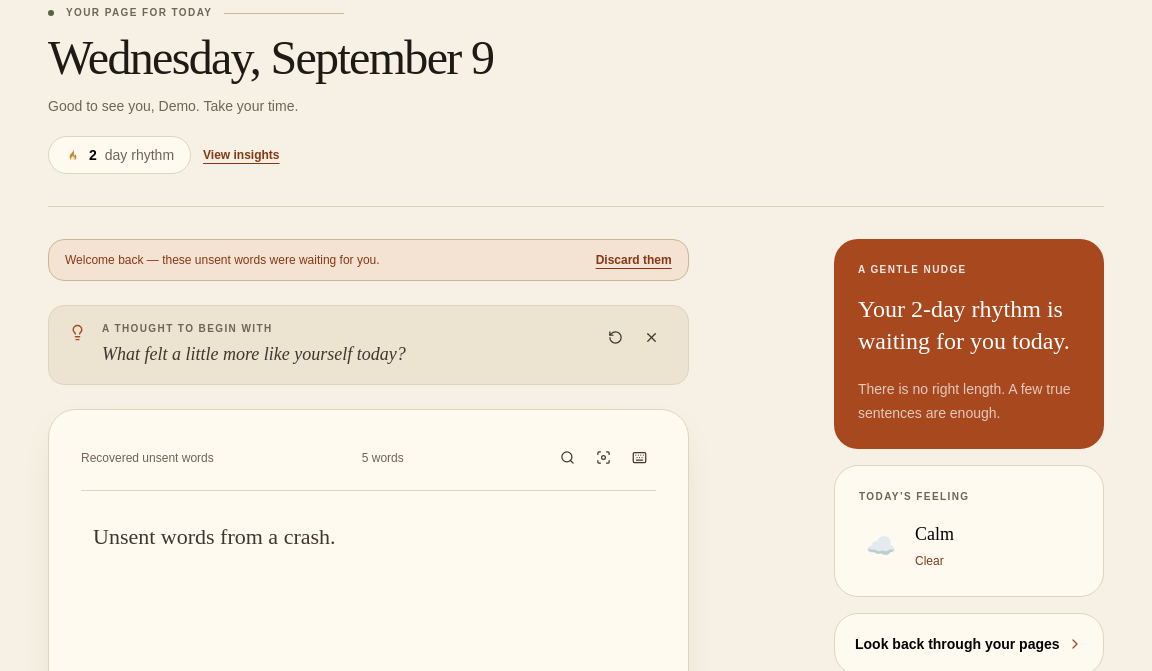
Test: Today editor › recovers a draft for an empty day and discards it on request
The width and height of the screenshot is (1152, 671).
Expected: the element with test id "draft-recovered-note" is shown, [48, 239, 689, 281]
Click the button with test id "discard-draft-button". click: (634, 260)
box: [596, 252, 672, 268]
(page scrolled)
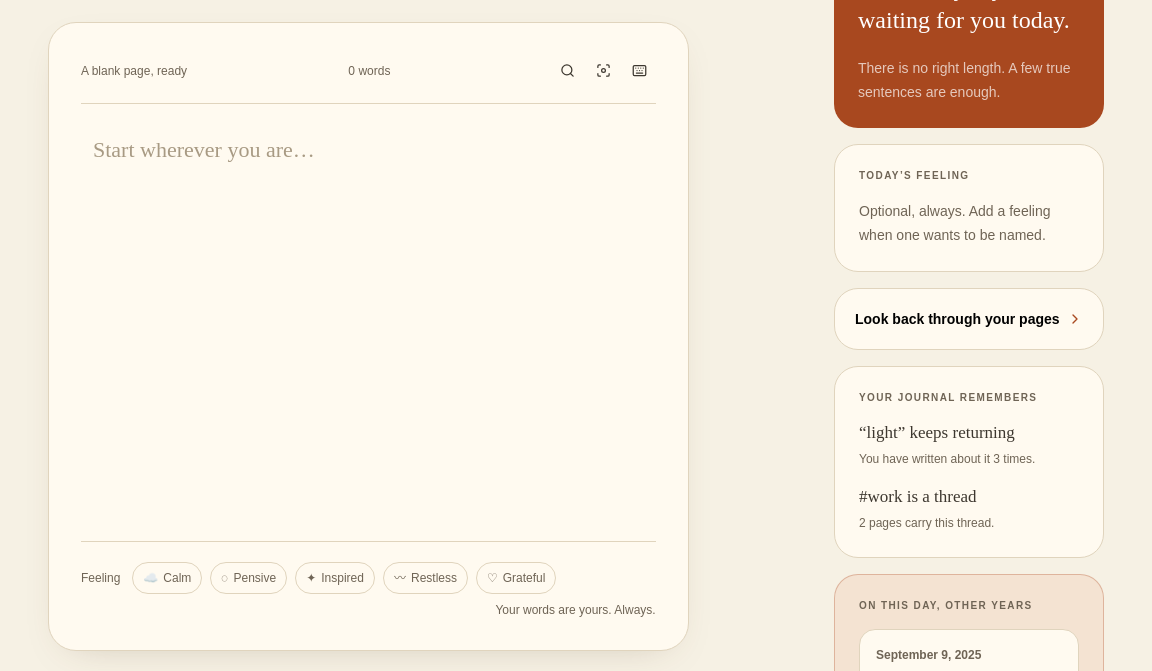
Result: the element with test id "draft-recovered-note" is gone
Result: the text box with test id "today-editor-textarea" is empty at [81, 104, 656, 534]
